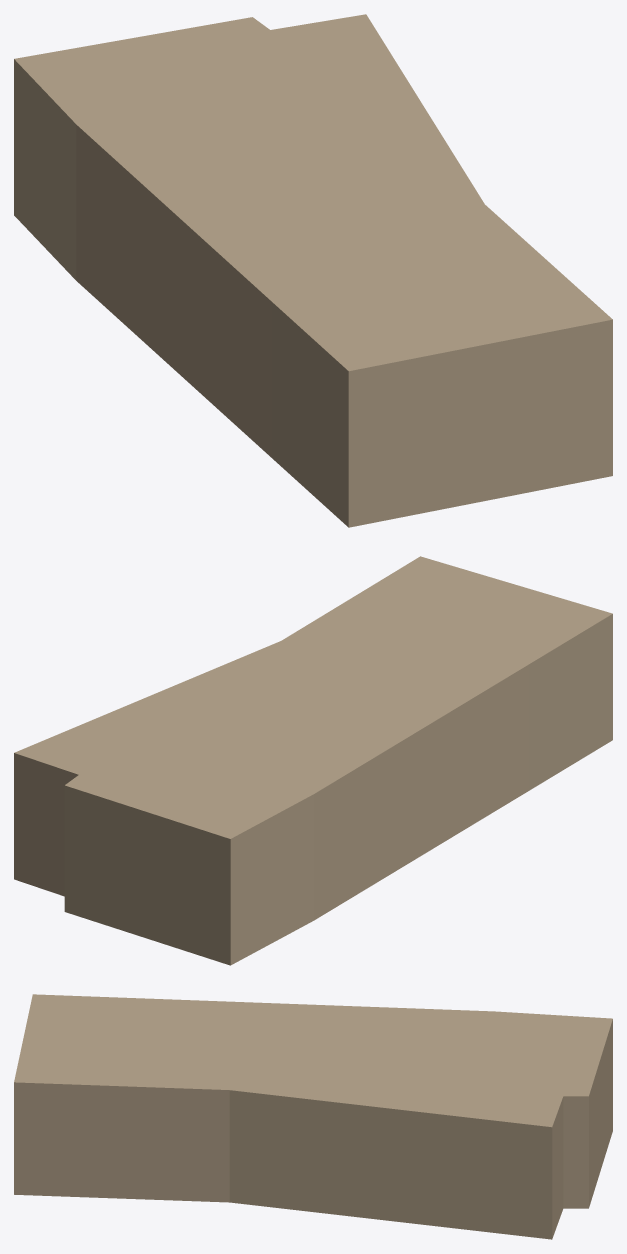
The model's file is bld_98640364.dae.
The picture shows the model from 3 angles, top to bottom: view 1: azimuth 30°, elevation 25°; view 2: azimuth 150°, elevation 25°; view 3: azimuth 270°, elevation 25°; orthographic projection. The views are drawn at different scales.
Parts seen in each view (by area): view 1: Salero Lounge; view 2: Salero Lounge; view 3: Salero Lounge.
Part boxes in pixels (left/top/right/bottom): Salero Lounge: left=14, top=14, right=612, bottom=527; Salero Lounge: left=14, top=556, right=612, bottom=965; Salero Lounge: left=14, top=994, right=612, bottom=1239.
Size of the model in its own units: 20.29 by 38.64 by 8.
